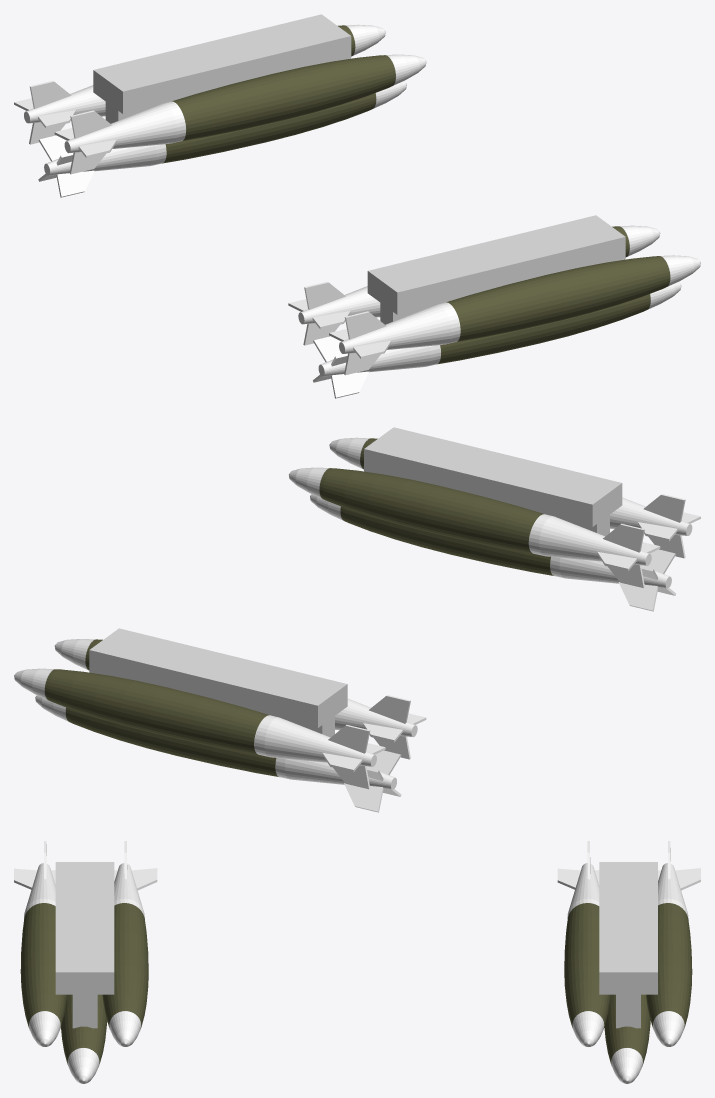
File: a10cgbu3847.glb
3 renders of one model, top to bottom at view 1: azimuth 30°, elevation 25°; view 2: azimuth 150°, elevation 25°; view 3: azimuth 270°, elevation 25°, orthographic.
Visible parts, largest first — view 1: 円柱.014, 円柱.011, 立方体.004, 立方体.003, 円柱.012, 円柱.009, 円柱.010, 円柱.013; view 2: 円柱.010, 円柱.013, 立方体.003, 立方体.004, 円柱.009, 円柱.012, 円柱.014, 円柱.011; view 3: 立方体.003, 立方体.004, 円柱.014, 円柱.011, 円柱.010, 円柱.013, 円柱.009, 円柱.012.
Boxes of the visible parts, bbox=[...] form: 円柱.014: bbox=[54, 54, 426, 174]; 円柱.011: bbox=[329, 255, 700, 375]; 立方体.004: bbox=[93, 14, 351, 123]; 立方体.003: bbox=[367, 215, 625, 324]; 円柱.012: bbox=[38, 81, 406, 197]; 円柱.009: bbox=[313, 282, 681, 398]; 円柱.010: bbox=[288, 225, 660, 345]; 円柱.013: bbox=[14, 24, 385, 144]; 円柱.010: bbox=[289, 467, 660, 588]; 円柱.013: bbox=[14, 668, 385, 789]; 立方体.003: bbox=[364, 427, 622, 536]; 立方体.004: bbox=[89, 628, 347, 737]; 円柱.009: bbox=[310, 494, 675, 611]; 円柱.012: bbox=[35, 695, 401, 812]; 円柱.014: bbox=[54, 639, 426, 759]; 円柱.011: bbox=[329, 437, 700, 558]; 立方体.003: bbox=[55, 862, 114, 1028]; 立方体.004: bbox=[599, 862, 657, 1028]; 円柱.014: bbox=[557, 841, 610, 1046]; 円柱.011: bbox=[14, 841, 66, 1046]; 円柱.010: bbox=[102, 841, 157, 1046]; 円柱.013: bbox=[646, 841, 700, 1046]; 円柱.009: bbox=[61, 994, 107, 1083]; 円柱.012: bbox=[604, 994, 650, 1083].
Bounding box in the file's own units: 2.42 × 0.6212 × 4.04.
4 materials, 1 textured.
